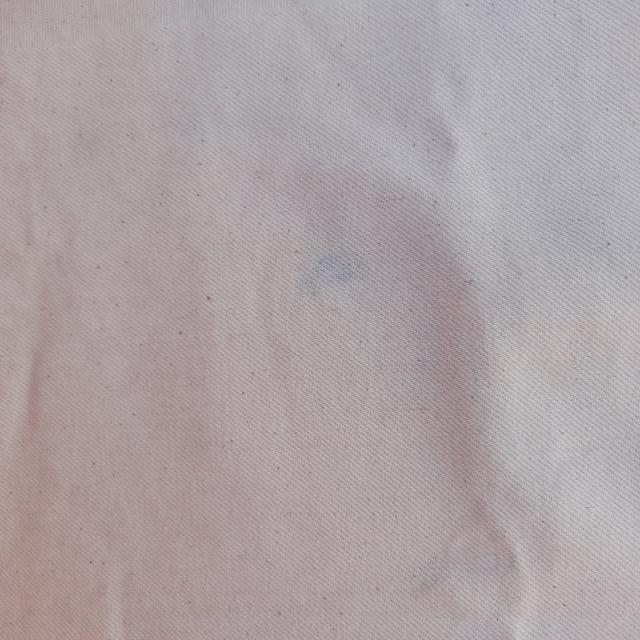taaaches: (279, 220, 379, 318)
